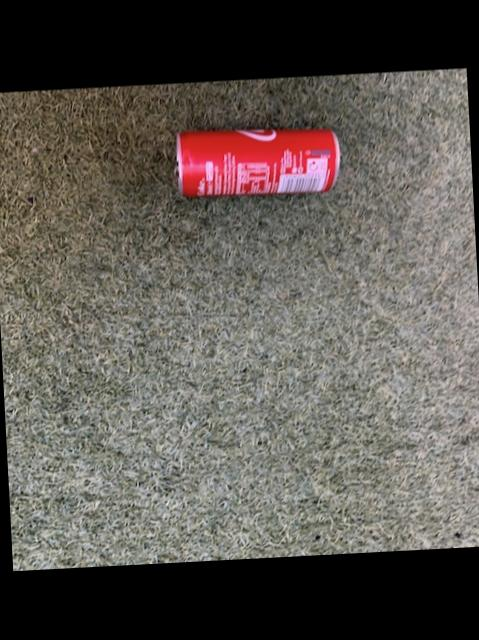metal: (178, 128, 340, 195)
